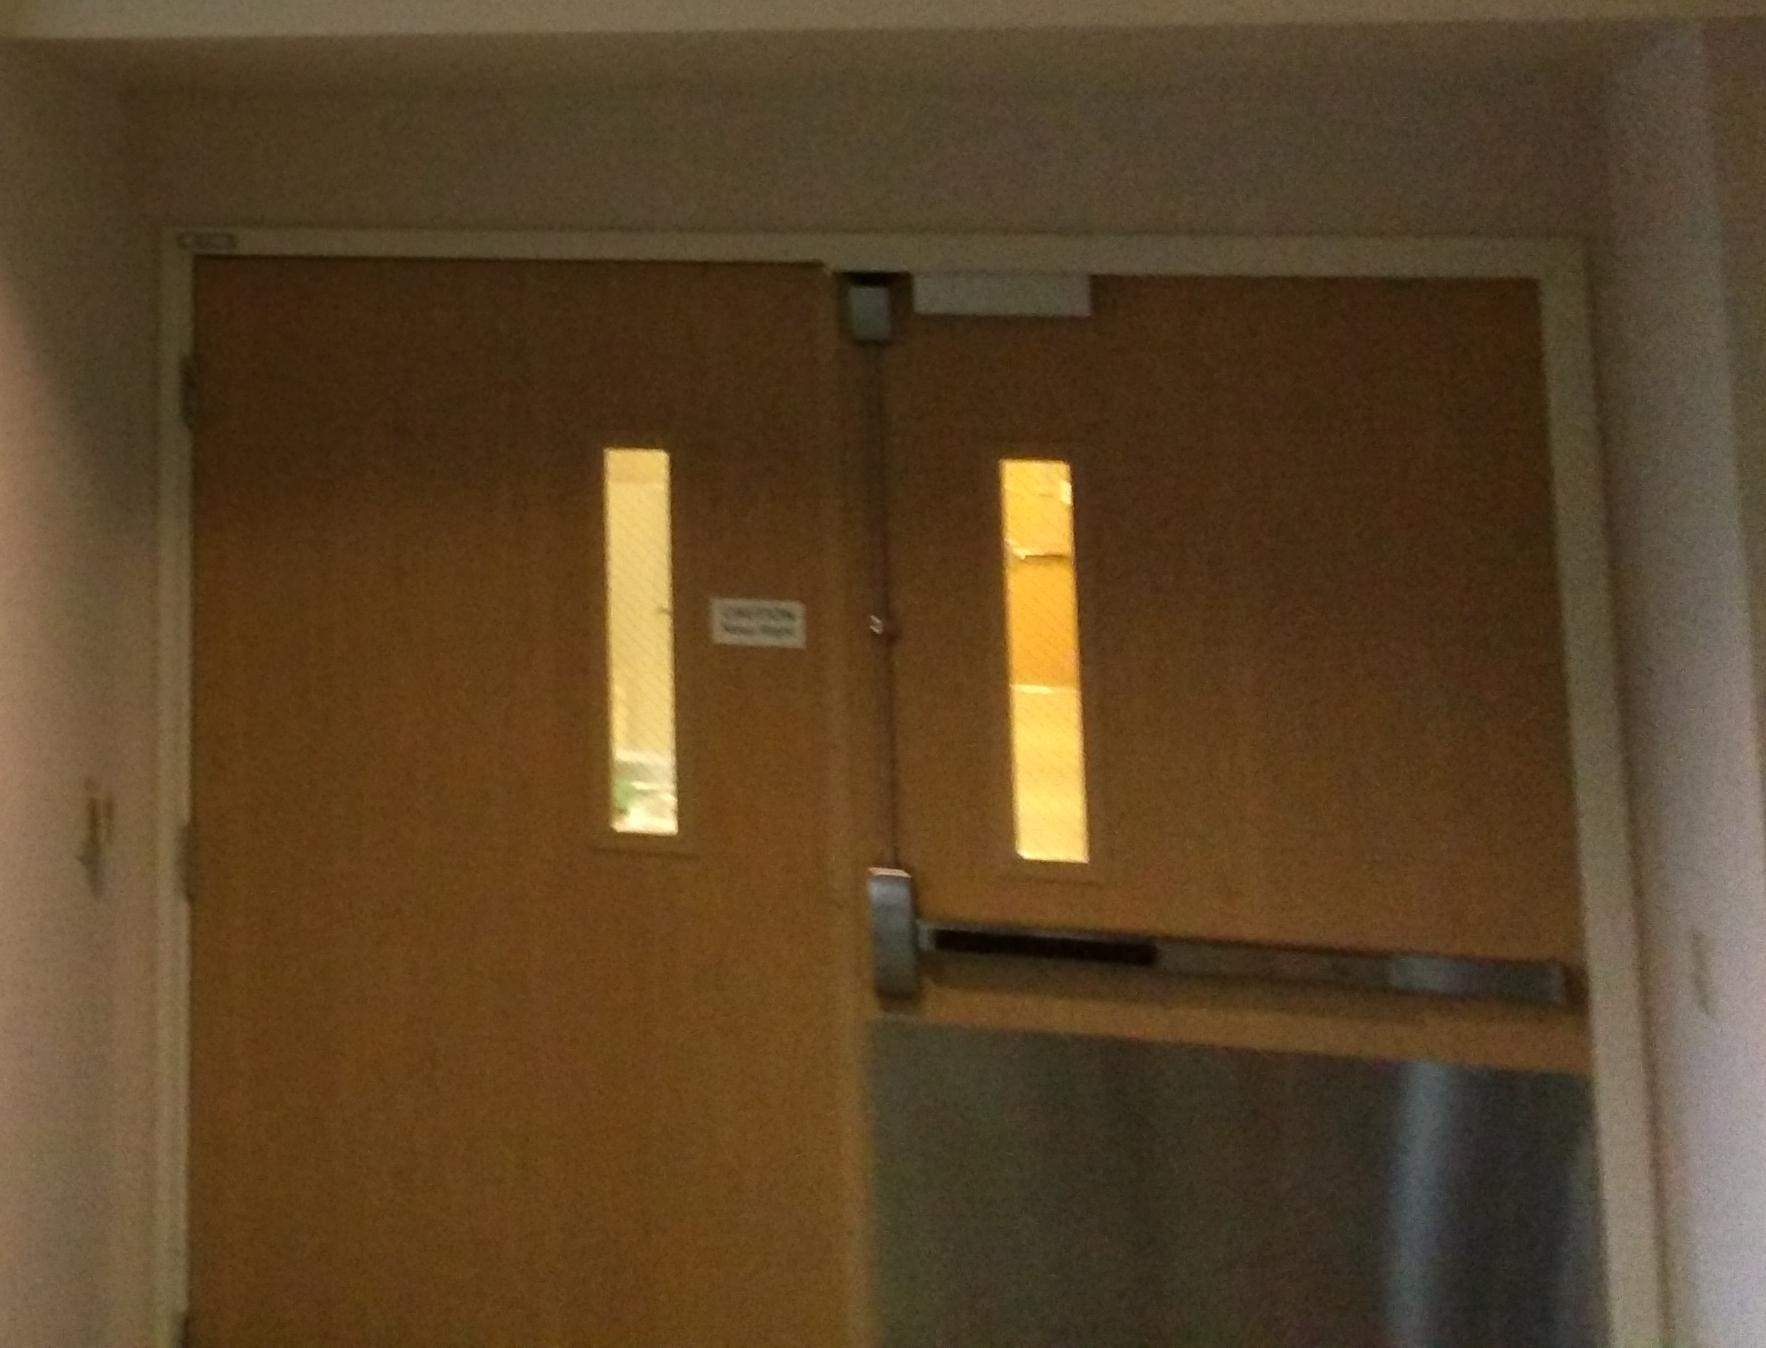door: (177, 244, 1616, 1348)
